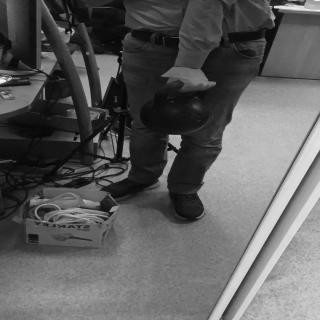kettlebell: (138, 78, 220, 137)
